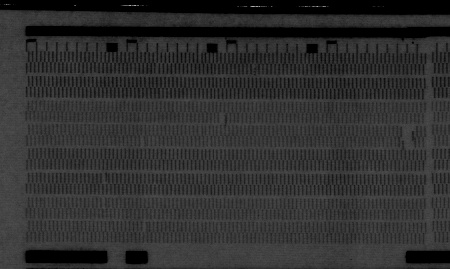Broken hole: (398, 125, 417, 151), (216, 111, 229, 124)
Oblique printing: (98, 196, 113, 209), (249, 64, 261, 79), (194, 52, 207, 65), (136, 135, 149, 147), (139, 222, 152, 233), (100, 173, 111, 185)
